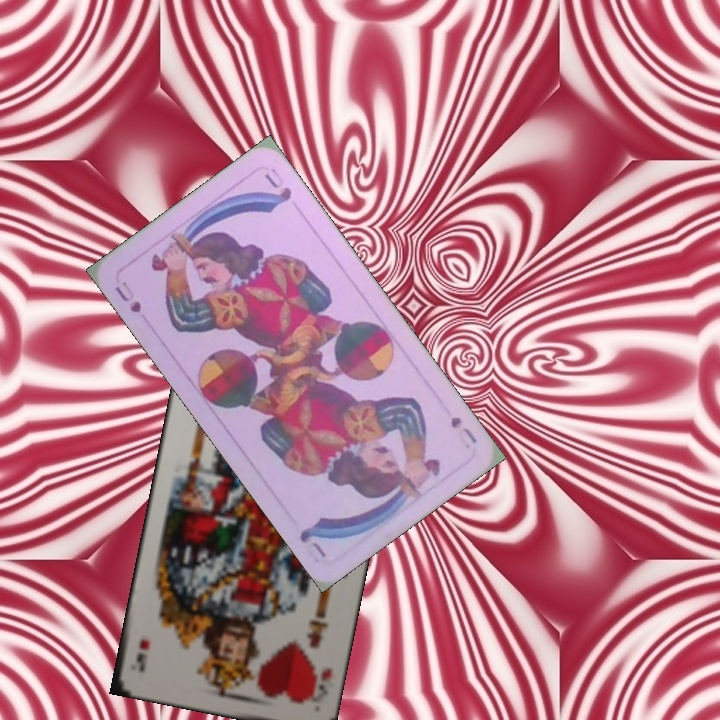HK: (305, 664, 335, 705)
SU: (111, 276, 144, 317), (446, 412, 480, 446)
